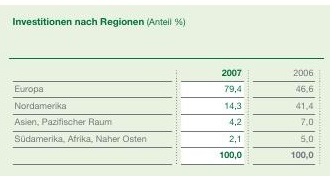table: (0, 0, 330, 176)
